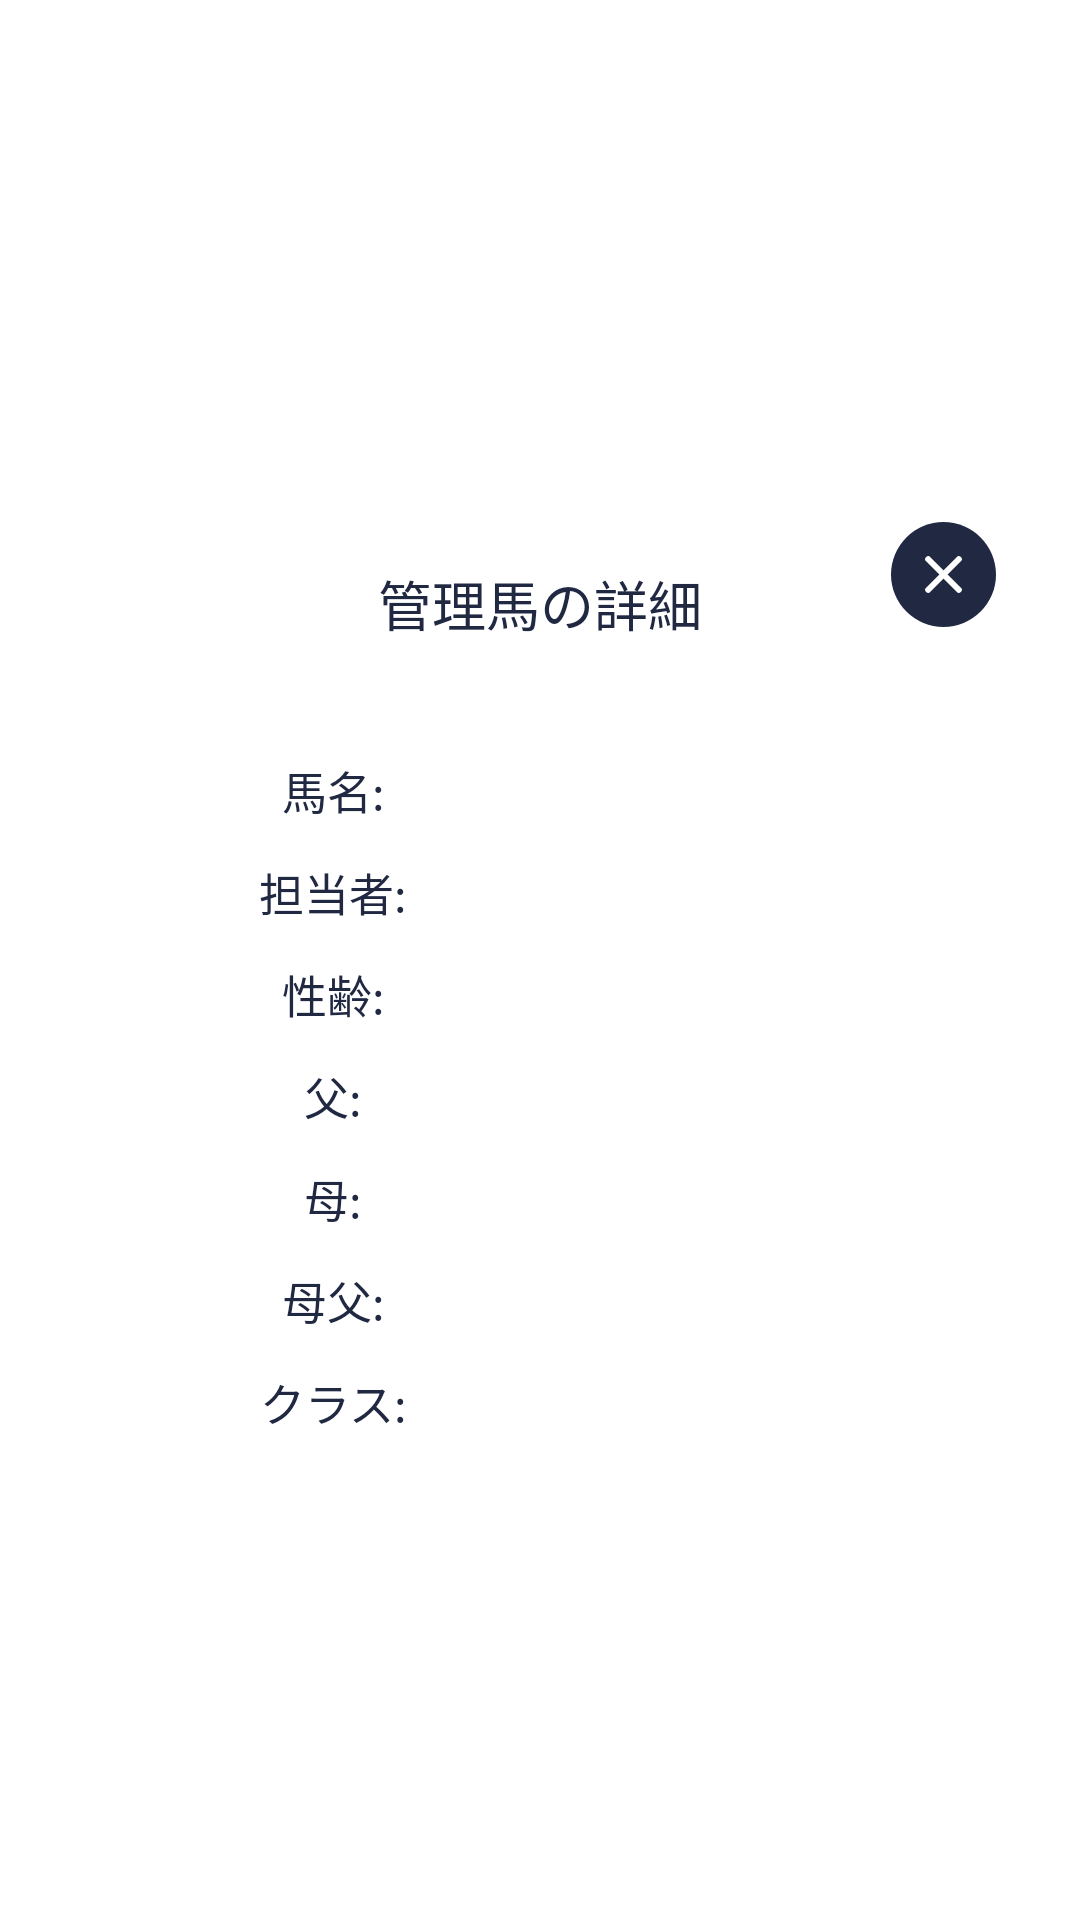

Point at icon controls on the screen. Image size 1080w x 1920h, points as (x=x, y=y).
close: (x=943, y=574)
